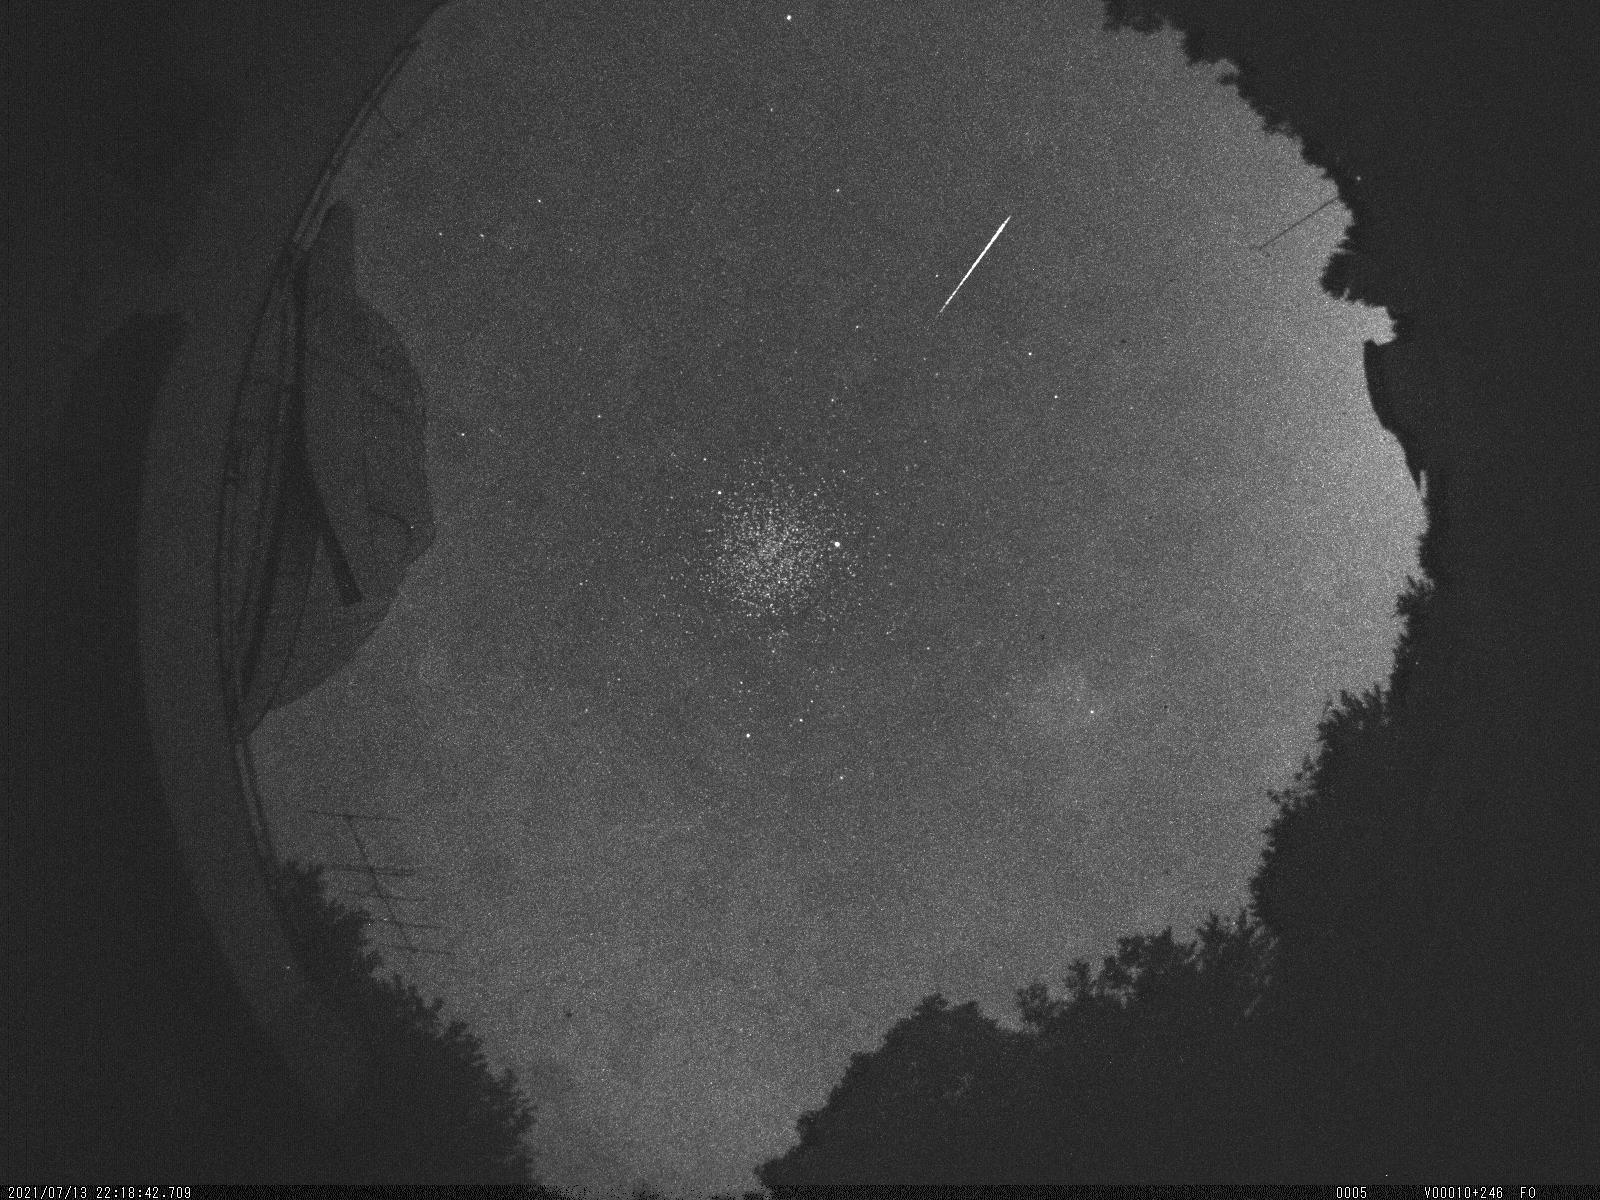Meteor: (931, 200, 1024, 324)
